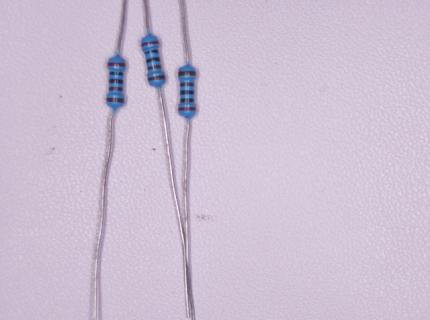Black band: (146, 57, 160, 63), (144, 49, 159, 54), (109, 79, 123, 84), (180, 90, 194, 95), (180, 98, 194, 103), (109, 72, 123, 76)
Brown band: (106, 97, 124, 104), (148, 75, 166, 82), (147, 64, 162, 70), (178, 71, 196, 76), (180, 82, 194, 87), (109, 87, 123, 91)
Red band: (141, 40, 159, 47), (107, 62, 126, 68), (178, 107, 196, 111)
